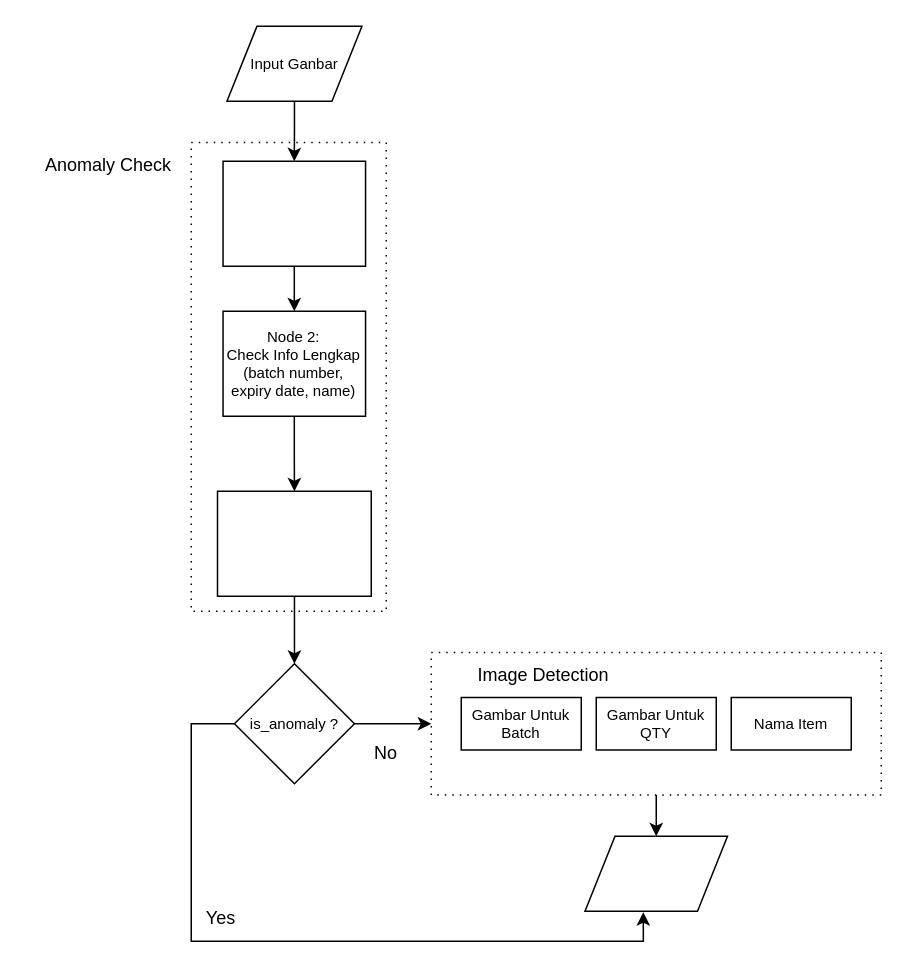
Image size: 908x980. Some labels were removed from this diagram. The shapes that lost their labels are listed below. From the top down, each one's box as (x1, y1, x2, y2) in pixels, then its label:
(222, 160, 366, 266): Node 1: Anomaly Check
(216, 490, 371, 596): Node 2: Check Jumlah Obat
(584, 835, 728, 911): Output Parser
